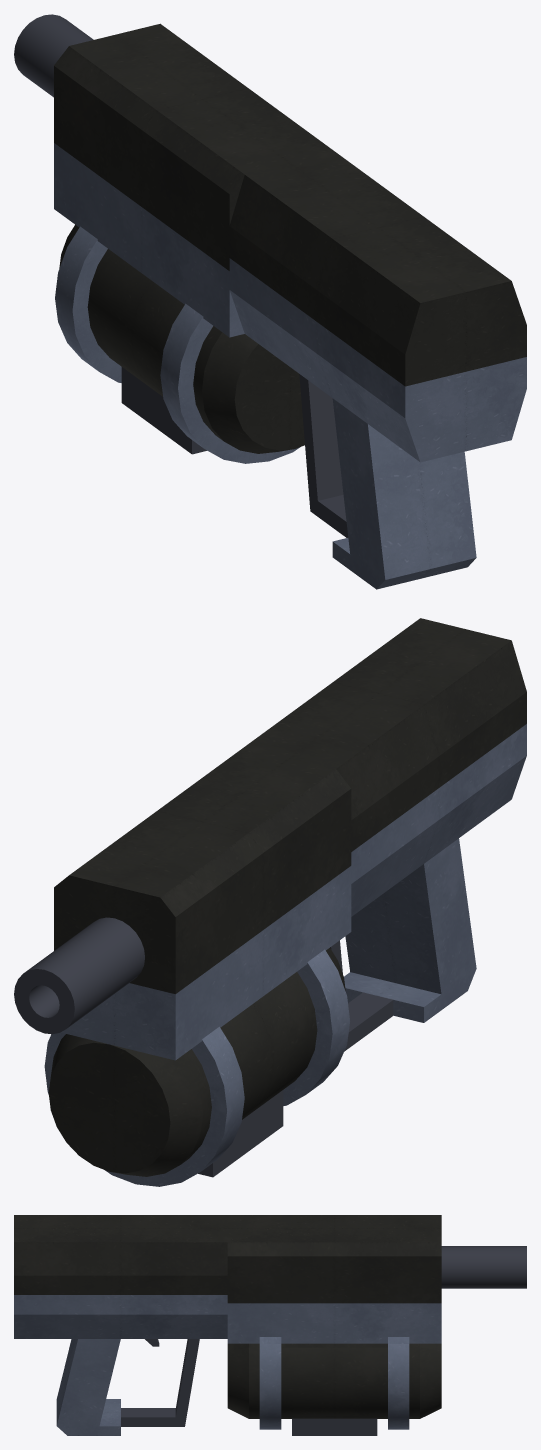
The model's file is TestGun.glb.
3 views of the same model, one above another, from view 1: azimuth 30°, elevation 25°; view 2: azimuth 150°, elevation 25°; view 3: azimuth 270°, elevation 25° (orthographic). The views are drawn at different scales.
Visible parts, largest first — view 1: mergedBlocks(Clone); view 2: mergedBlocks(Clone); view 3: mergedBlocks(Clone).
Boxes of the visible parts, bbox=[...] form: mergedBlocks(Clone): bbox=[14, 14, 526, 589]; mergedBlocks(Clone): bbox=[14, 618, 526, 1186]; mergedBlocks(Clone): bbox=[14, 1215, 526, 1435].
Bounding box in the file's own units: 0.6 × 1 × 2.4.
3 materials, 2 textured.
